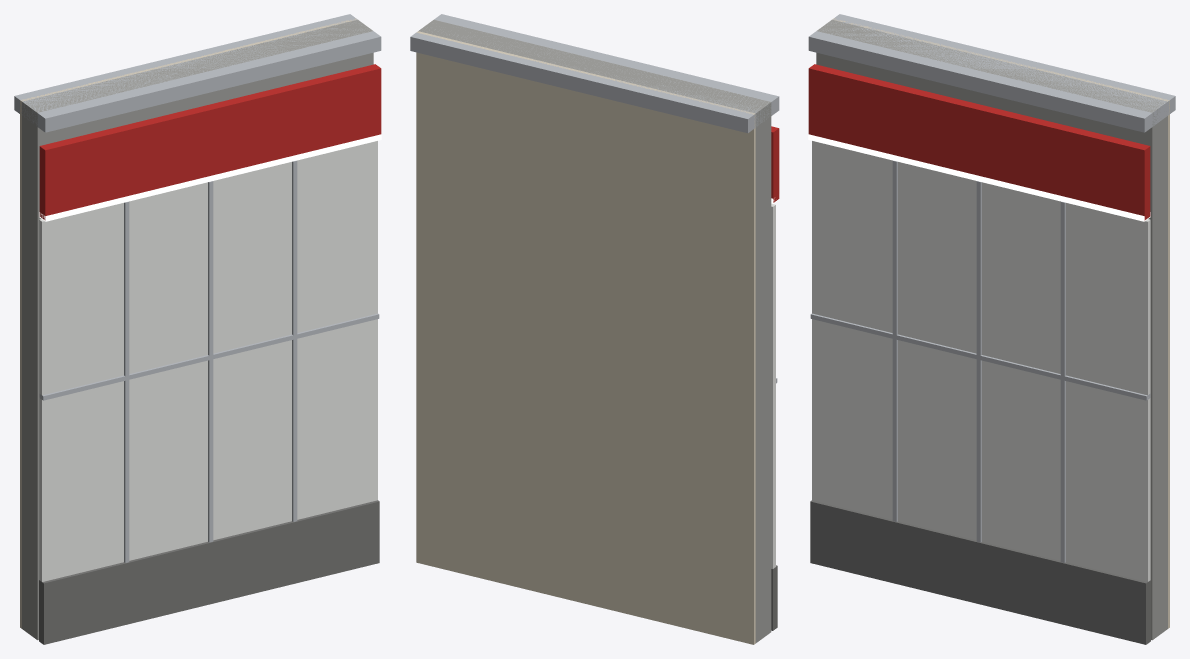
Rendered from Store24_Wall_Plain.glb.
The picture shows the model from 3 angles, left to right: view 1: azimuth 30°, elevation 25°; view 2: azimuth 150°, elevation 25°; view 3: azimuth 330°, elevation 25°; orthographic projection.
Visible parts, largest first — view 1: Store24_Wall_Plain; view 2: Store24_Wall_Plain; view 3: Store24_Wall_Plain.
Part boxes in pixels (<box>): Store24_Wall_Plain: <box>14,14,381,644</box>; Store24_Wall_Plain: <box>410,14,779,644</box>; Store24_Wall_Plain: <box>808,14,1175,644</box>.
Bounding box in the file's own units: 2 × 3 × 0.3245.
Materials: 1 (1 with a texture image).
